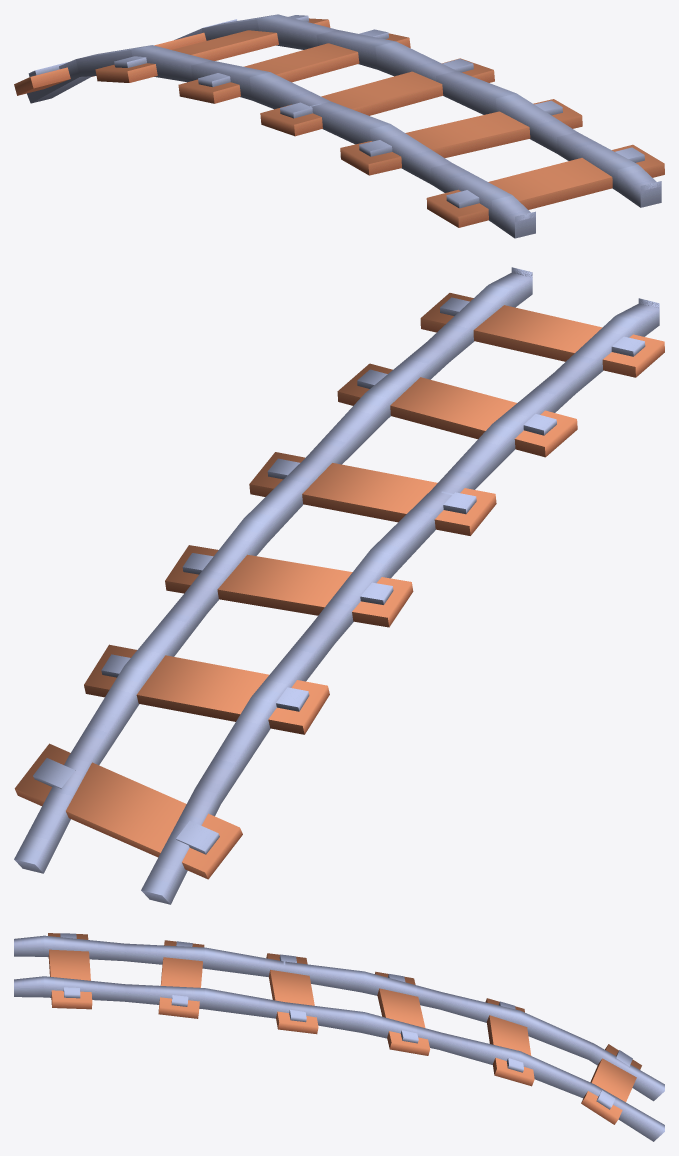
The model's file is railroad-damaged-straight-hill-end.glb.
3 views of the same model, one above another, from view 1: azimuth 30°, elevation 25°; view 2: azimuth 150°, elevation 25°; view 3: azimuth 270°, elevation 25° (orthographic). The views are drawn at different scales.
Parts seen in each view (by area): view 1: railroad-damaged-straight-hill-end; view 2: railroad-damaged-straight-hill-end; view 3: railroad-damaged-straight-hill-end.
Part boxes in pixels (x1,y1,x2,y2): railroad-damaged-straight-hill-end: [14, 14, 664, 238]; railroad-damaged-straight-hill-end: [14, 267, 664, 904]; railroad-damaged-straight-hill-end: [14, 933, 664, 1141].
Bounding box in the file's own units: 1.03 × 1.1 × 4.07.
Materials: 1 (1 with a texture image).
